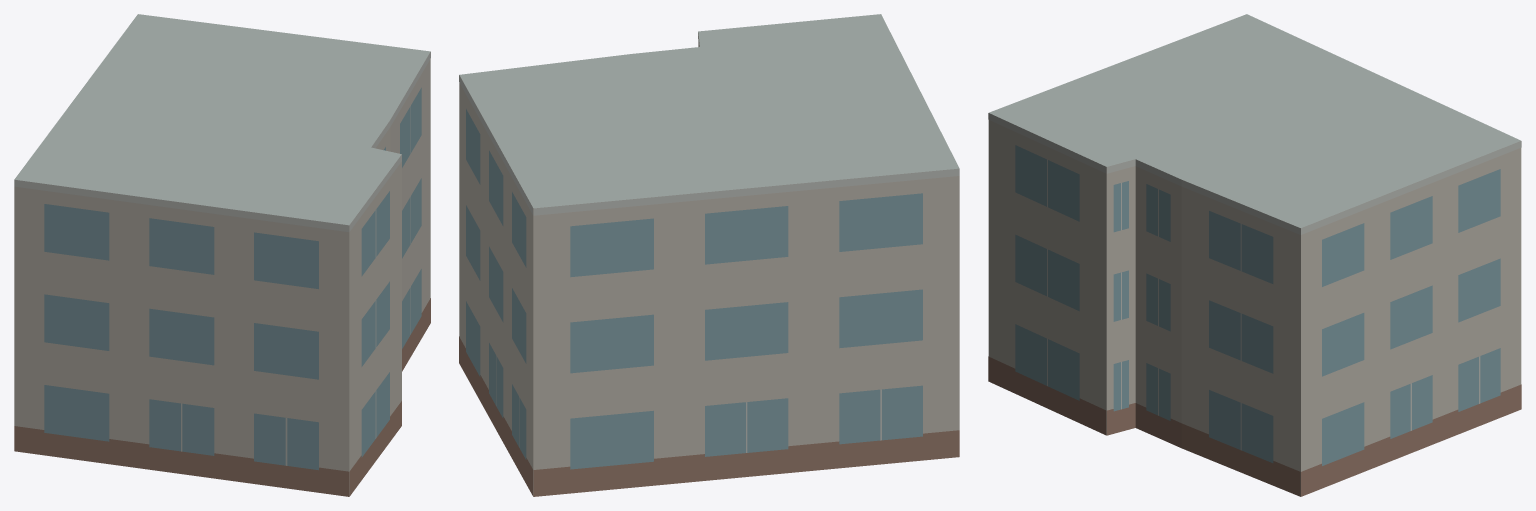
The model's file is survey-upis-33006634.glb.
The picture shows the model from 3 angles, left to right: view 1: azimuth 30°, elevation 25°; view 2: azimuth 150°, elevation 25°; view 3: azimuth 270°, elevation 25°; orthographic projection. The views are drawn at different scales.
Parts seen in each view (by area): view 1: survey-upis-33006634.tmp; view 2: survey-upis-33006634.tmp; view 3: survey-upis-33006634.tmp.
Part boxes in pixels (x1,y1,x2,y2): survey-upis-33006634.tmp: [14, 14, 430, 496]; survey-upis-33006634.tmp: [459, 14, 959, 496]; survey-upis-33006634.tmp: [988, 14, 1521, 496].
Size of the model in its own units: 16.43 by 9.6 by 17.27.
